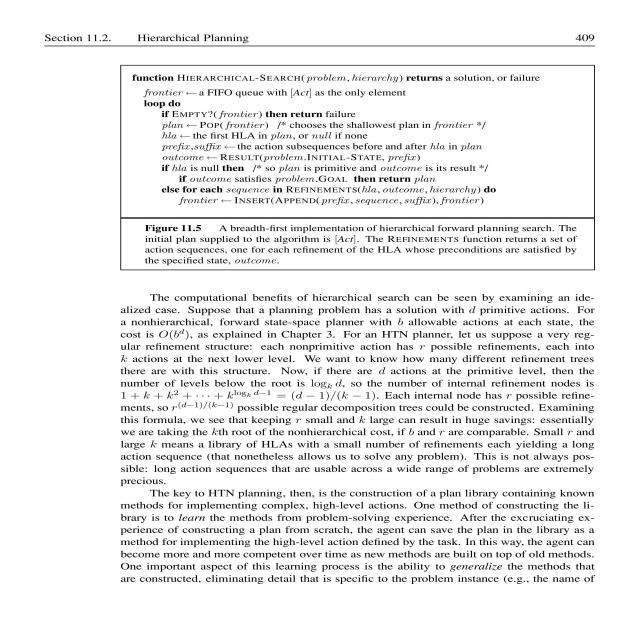diagram: (111, 63, 640, 279)
